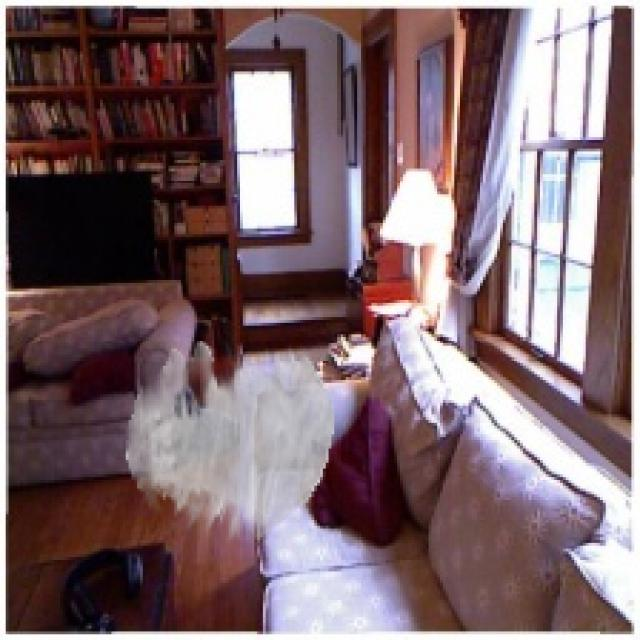smoke: (126, 340, 334, 543)
